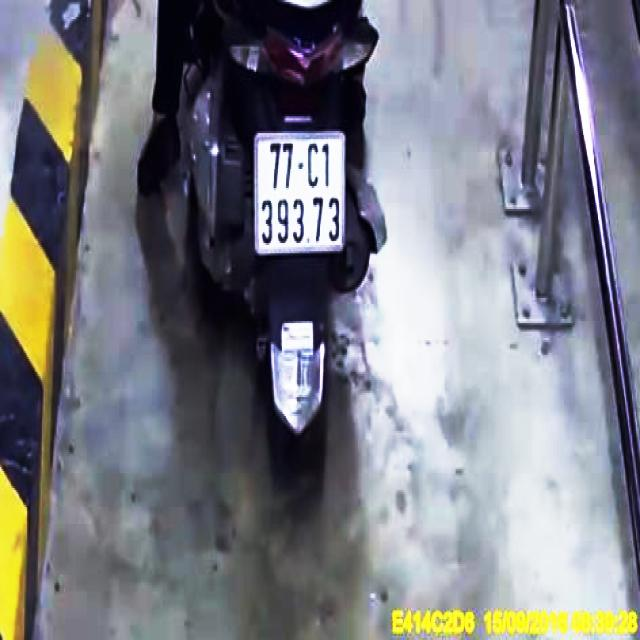license_plate: (258, 132, 345, 249)
